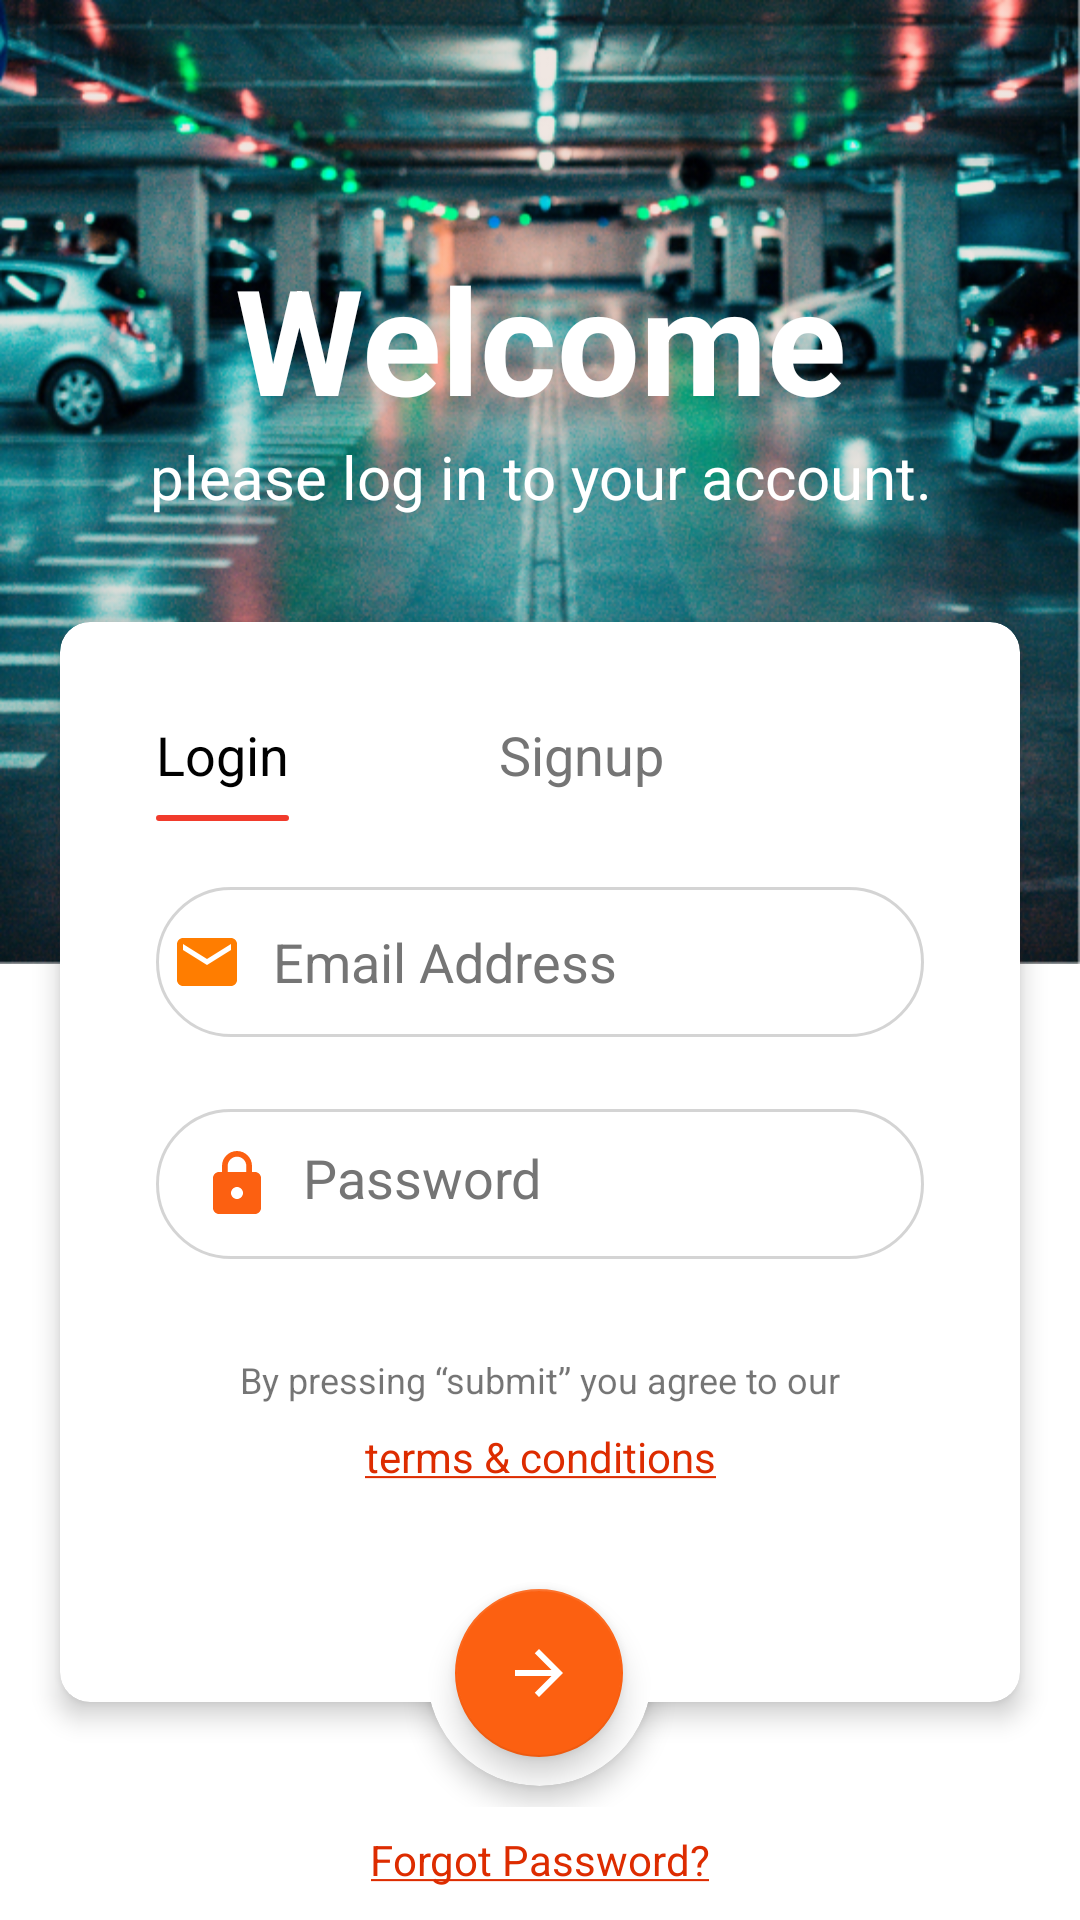

Locate icon controls on the screen. Image size 1080 x 1920, boxes as (x1, y1, x2, y2).
arrow forward: (455, 1589, 623, 1757)
